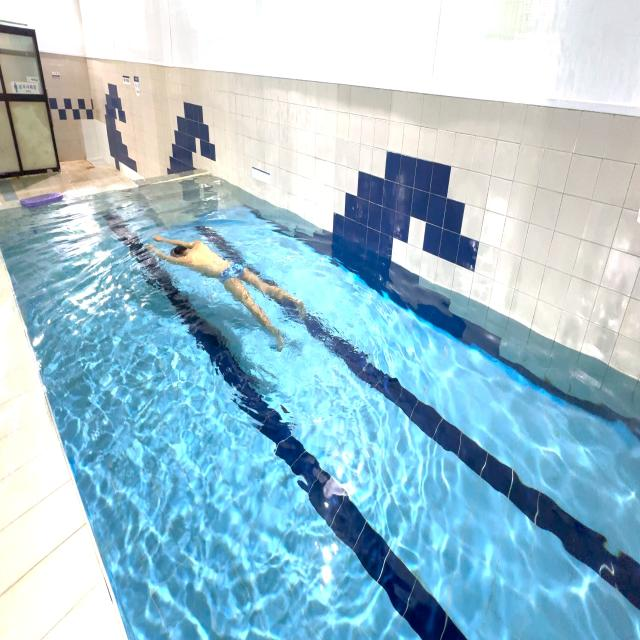Drowning: (136, 212, 312, 356)
